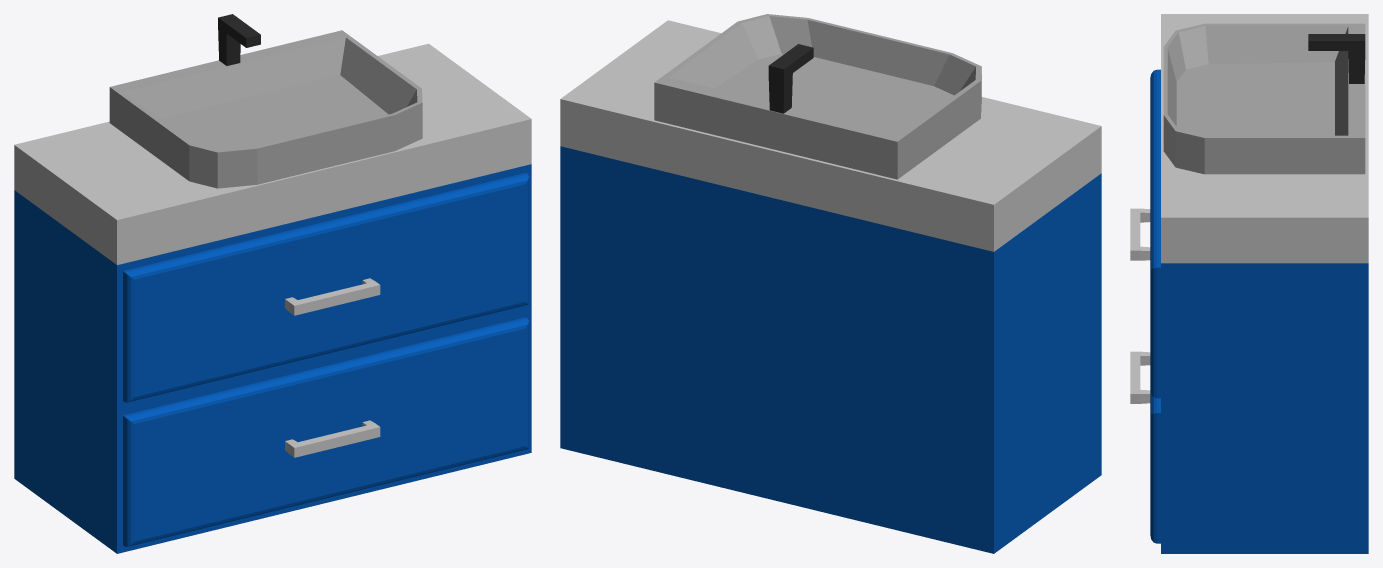
Rendered from Wardrobe_12.fbx.
The picture shows the model from 3 angles, left to right: view 1: azimuth 30°, elevation 25°; view 2: azimuth 150°, elevation 25°; view 3: azimuth 270°, elevation 25°; orthographic projection. The views are drawn at different scales.
Parts seen in each view (by area): view 1: Wardrobe_12, Wardrobe_12 Door_1, Wardrobe_12 Door_2; view 2: Wardrobe_12; view 3: Wardrobe_12, Wardrobe_12 Door_2, Wardrobe_12 Door_1.
Boxes of the visible parts, <box> form: Wardrobe_12: <box>14,14,531,553</box>; Wardrobe_12 Door_1: <box>123,317,528,546</box>; Wardrobe_12 Door_2: <box>123,173,528,402</box>; Wardrobe_12: <box>560,14,1101,553</box>; Wardrobe_12: <box>1161,14,1368,553</box>; Wardrobe_12 Door_2: <box>1130,69,1160,398</box>; Wardrobe_12 Door_1: <box>1130,351,1160,543</box>.
Size of the model in its own units: 1.07 by 1.02 by 0.529.
